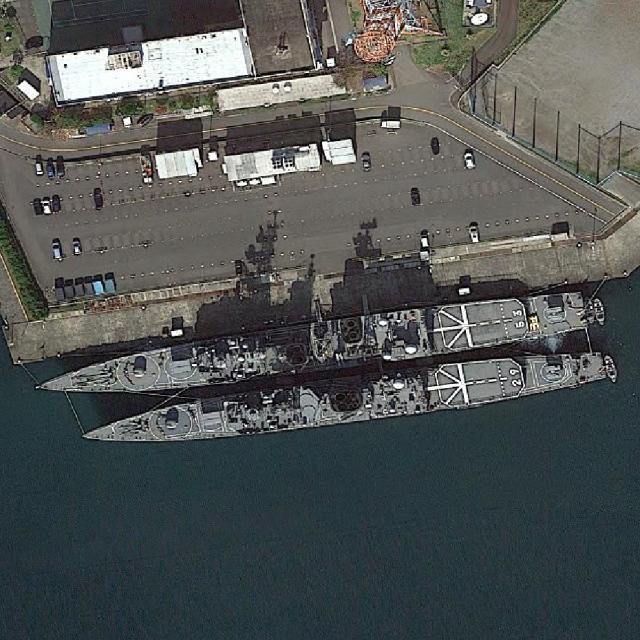Destroyer: (33, 285, 589, 407), (81, 345, 608, 457)
